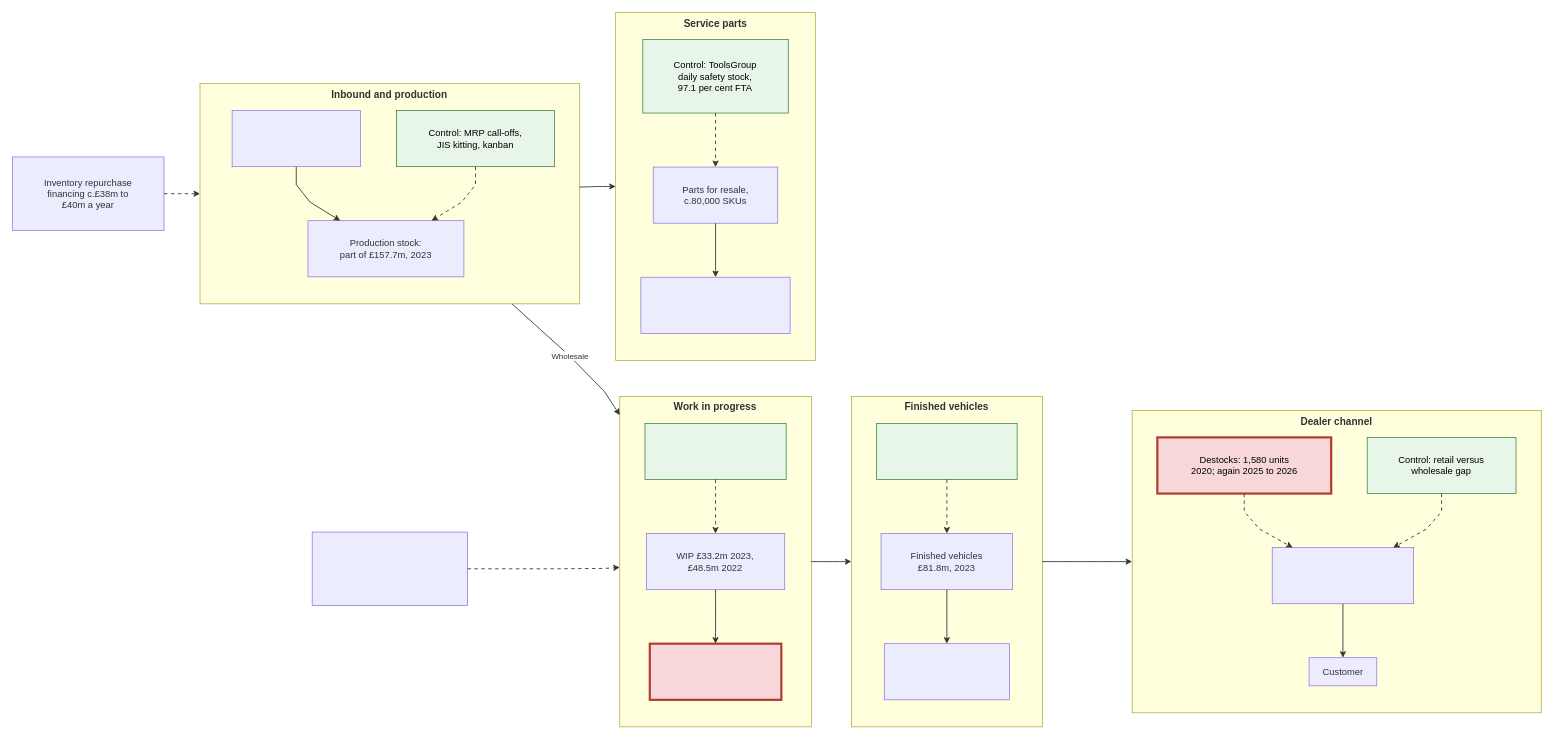
This 1554x739 diagram has some shape labels left out. The shapes that lost their labels are listed below. From the top down, each one's centre as x and y in pixels, then its label:
(x=296, y=138): Suppliers ship to DHL hubs
(x=715, y=304): Works heritage parts remanufactured
(x=715, y=451): Control: parts gate, right first time
(x=946, y=451): Control: wholesale plan and S and OP
(x=389, y=568): Specials deposits pre-fund build: £336m 2022, £272m 2023
(x=1343, y=575): Dealer stock, off AML balance sheet
(x=715, y=671): Stalled WIP: cars awaiting parts
(x=946, y=671): of which service cars £49.0m
